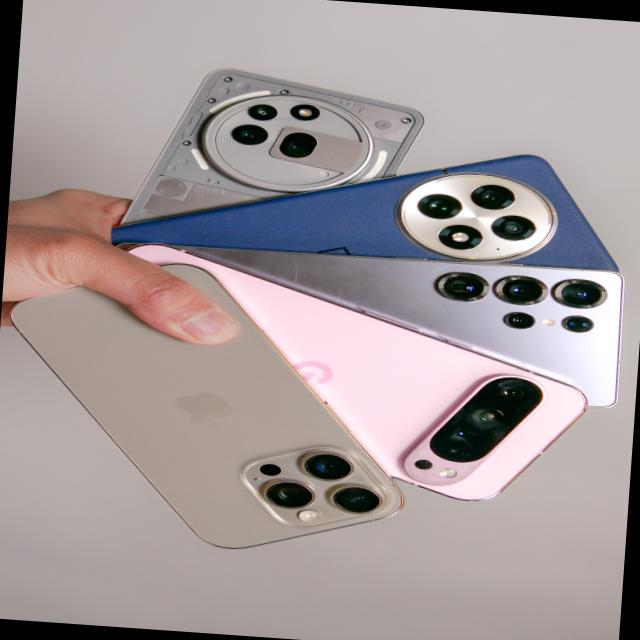mobile_phone: (3, 220, 614, 530), (0, 257, 439, 576), (99, 138, 638, 337), (115, 225, 636, 425), (84, 43, 444, 307)
